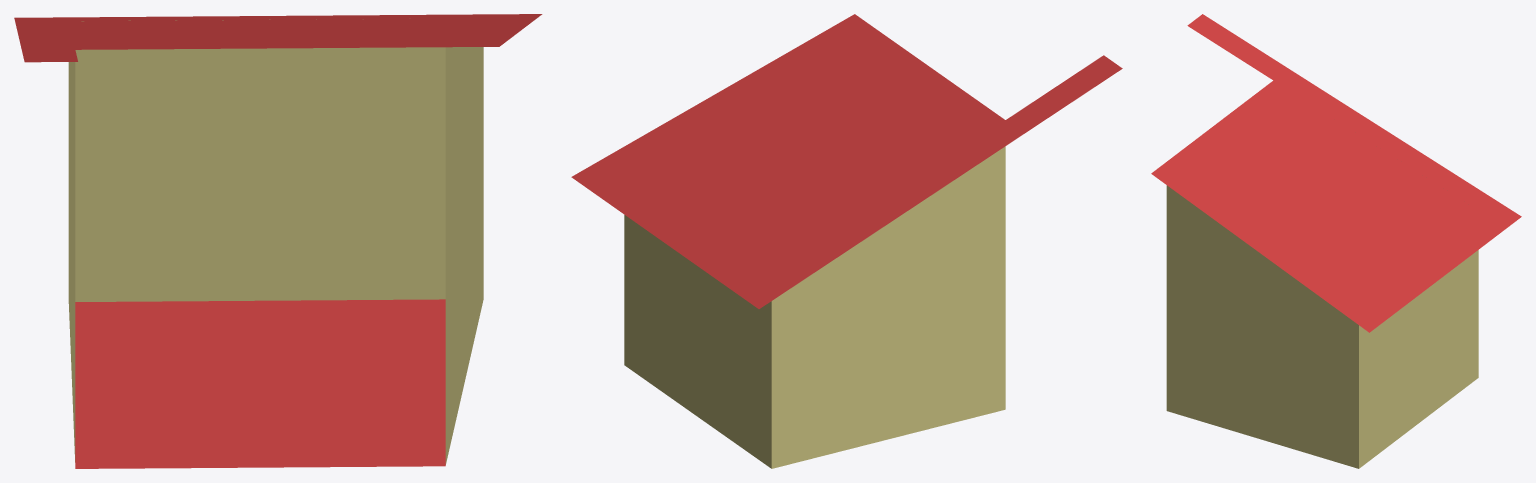
3 renders of one model, left to right at view 1: azimuth 30°, elevation 25°; view 2: azimuth 150°, elevation 25°; view 3: azimuth 270°, elevation 25°, orthographic. The views are drawn at different scales.
Bounding box in the file's own units: 14.18 × 11.64 × 9.82.
